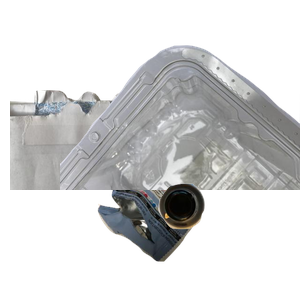glass: (156, 181, 300, 300)
paper: (10, 84, 250, 264)
plastic: (60, 43, 300, 223)
trash: (95, 157, 282, 300)
